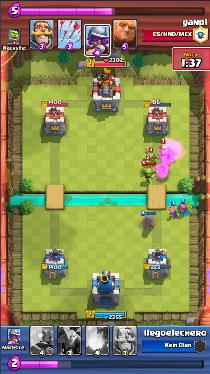ally_archer: (166, 207, 178, 218), (179, 204, 191, 215)
ally_goblin_cage: (139, 168, 158, 180)
ally_musketeer: (144, 214, 156, 230)
enemy_spear_goblin: (159, 144, 169, 157), (147, 153, 156, 163), (142, 160, 153, 168)
